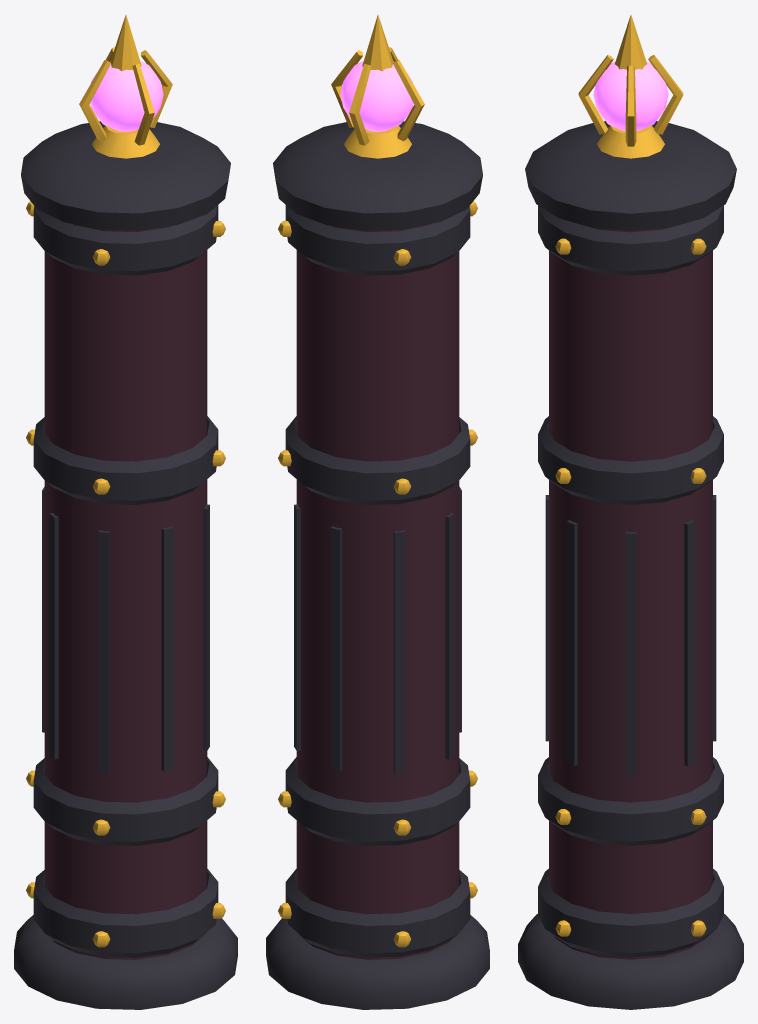
Rendered from door_hub.glb.
3 renders of one model, left to right at view 1: azimuth 30°, elevation 25°; view 2: azimuth 150°, elevation 25°; view 3: azimuth 270°, elevation 25°, orthographic.
Visible parts, largest first — view 1: body; view 2: body; view 3: body.
Boxes of the visible parts, x1=… form: body: x1=14, y1=15, x2=237, y2=1009; body: x1=266, y1=15, x2=489, y2=1009; body: x1=518, y1=15, x2=743, y2=1009.
Bounding box in the file's own units: 0.33 × 1.53 × 0.33.
